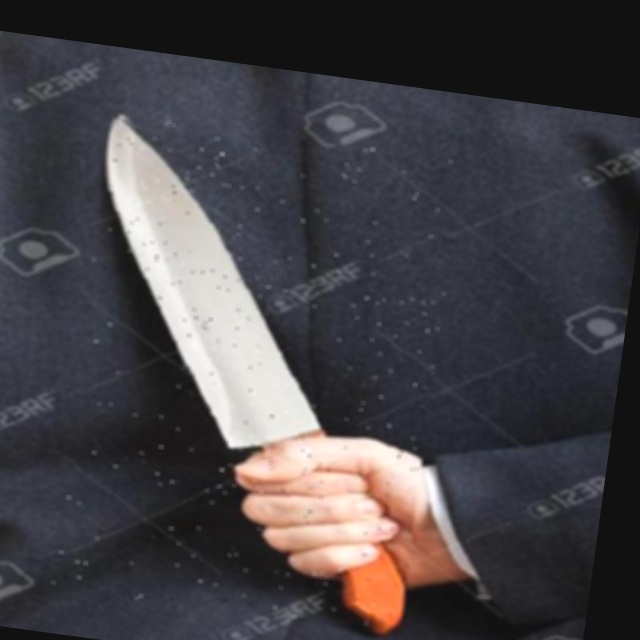Sharp-Object: (49, 113, 463, 635)
